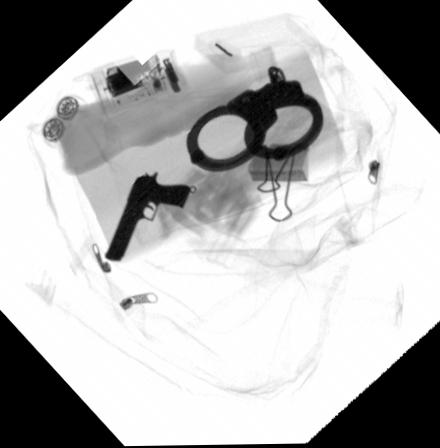Gun: (104, 170, 192, 263)
HandCuffs: (186, 63, 326, 174)
